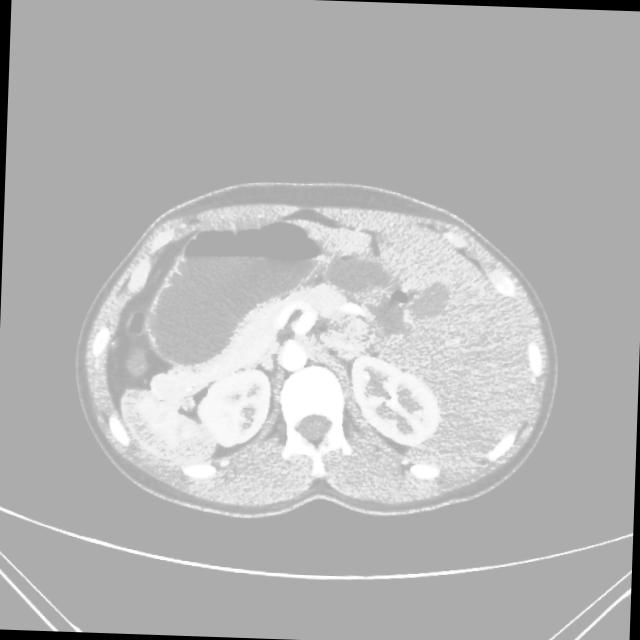NORMAL: (59, 152, 578, 562)
